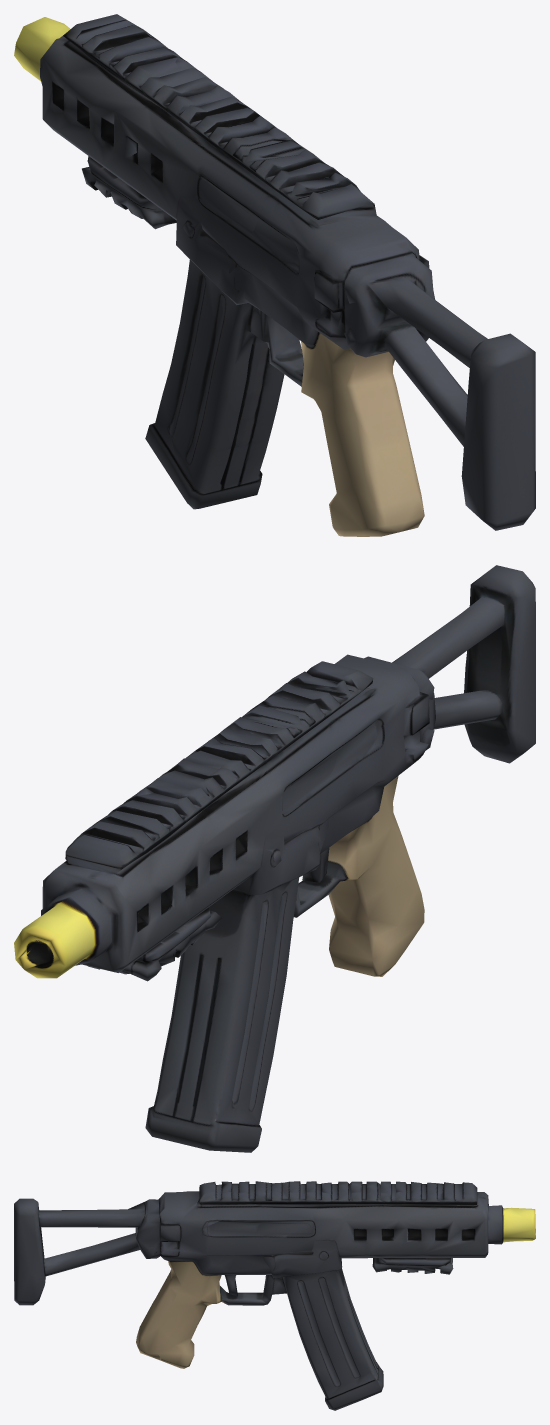
Rendered from hornet_tripo_raw.glb.
3 renders of one model, top to bottom at view 1: azimuth 30°, elevation 25°; view 2: azimuth 150°, elevation 25°; view 3: azimuth 270°, elevation 25°, orthographic. The views are drawn at different scales.
Parts seen in each view (by area): view 1: tripo_node_83be14d4-3597-4b0d-86ce-855708e9a219; view 2: tripo_node_83be14d4-3597-4b0d-86ce-855708e9a219; view 3: tripo_node_83be14d4-3597-4b0d-86ce-855708e9a219.
Part boxes in pixels (left/top/right/bottom): tripo_node_83be14d4-3597-4b0d-86ce-855708e9a219: left=14, top=14, right=535, bottom=536; tripo_node_83be14d4-3597-4b0d-86ce-855708e9a219: left=14, top=565, right=535, bottom=1152; tripo_node_83be14d4-3597-4b0d-86ce-855708e9a219: left=14, top=1181, right=535, bottom=1410.
Bounding box in the file's own units: 0.1241 × 0.4575 × 1.
1 material, 1 textured.
